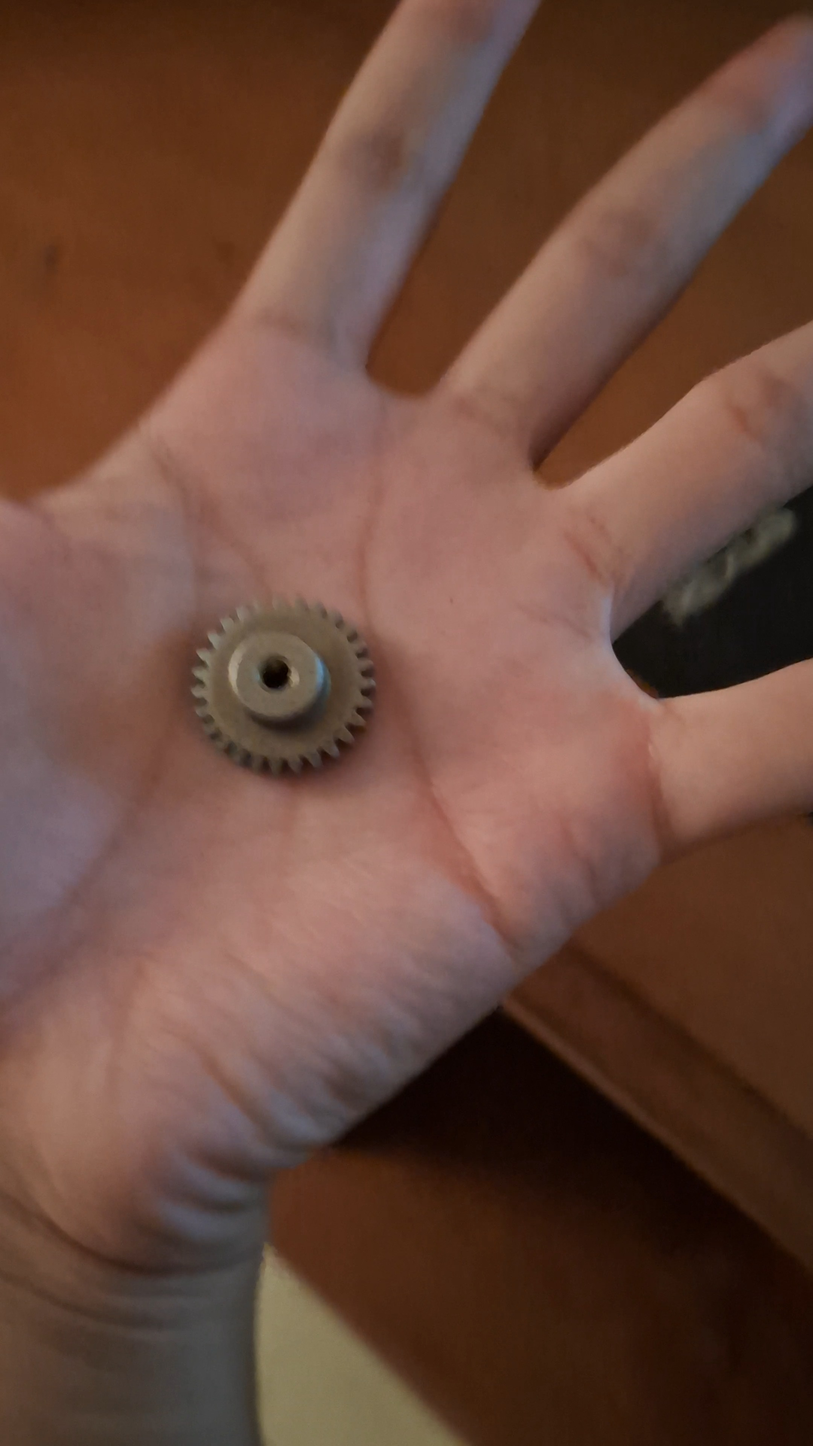spur gear: (192, 598, 375, 775)
